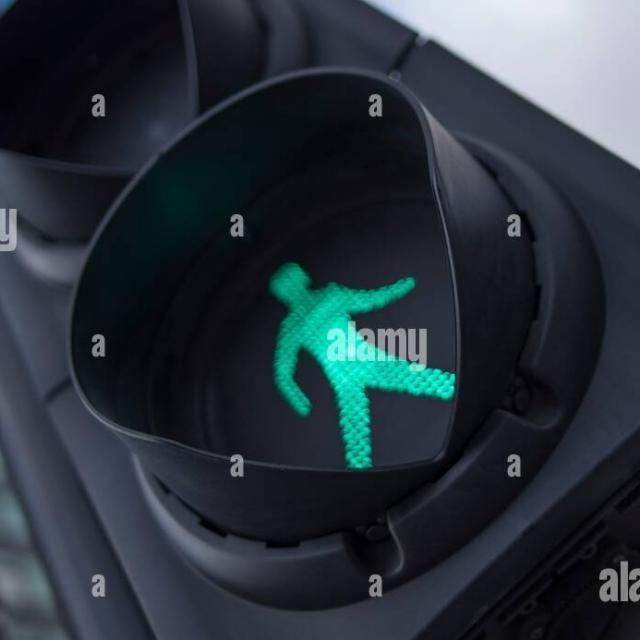geen-crossing: (227, 238, 466, 477)
